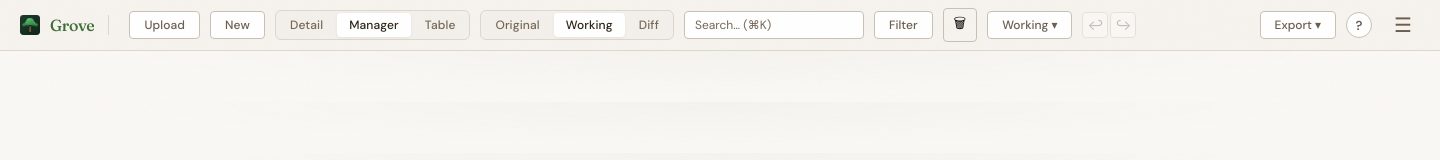
it: Toolbar — branch coverage › hamburger menu › shows Refresh Layout when viewMode is manager
Click the button named "Menu" at (1403, 25), box [1386,11,1420,39]
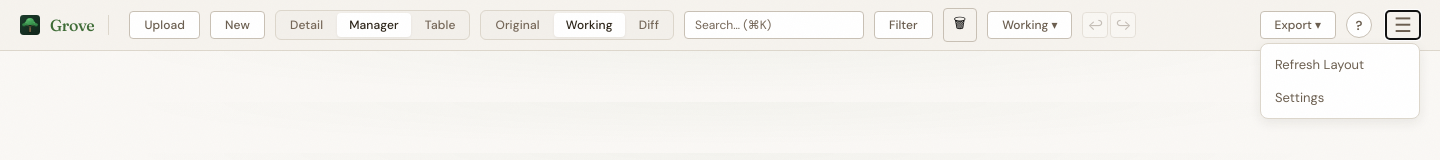
Result: the button "Refresh Layout" is shown at [1261,48,1419,81]
